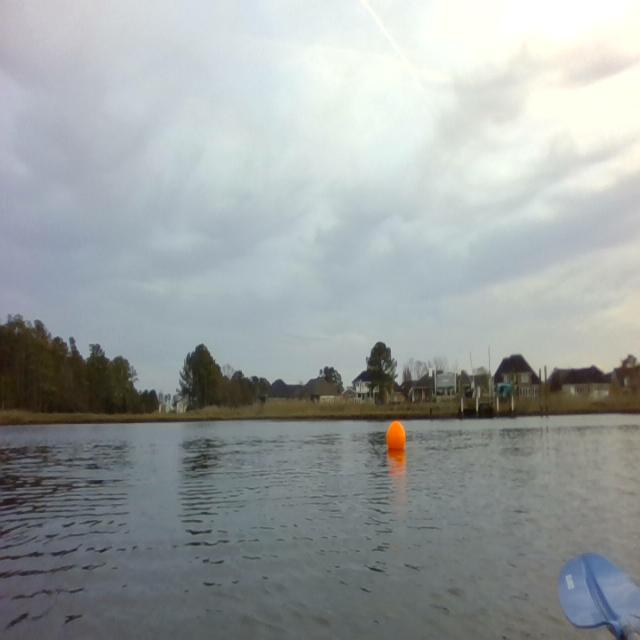Buoy: (385, 418, 407, 453)
